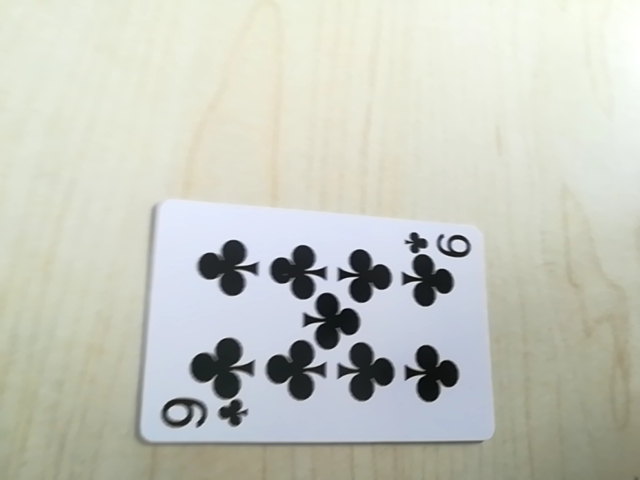mh 9: (153, 395, 250, 436), (404, 226, 475, 259)
